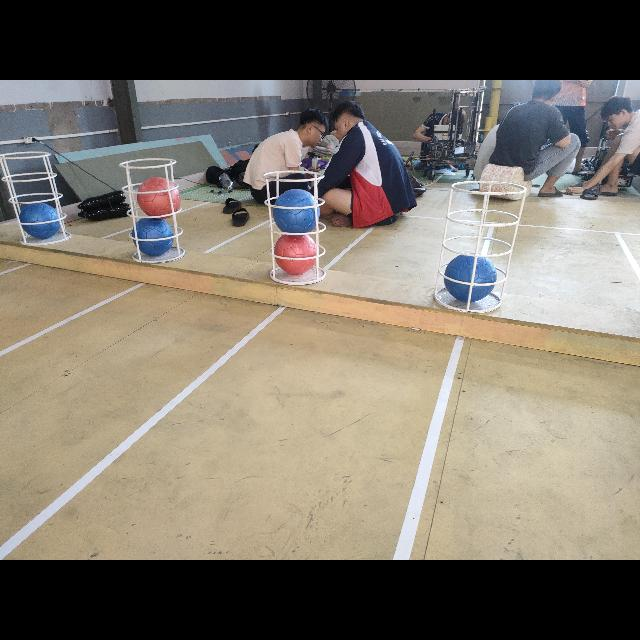B: (445, 253, 495, 303), (272, 188, 322, 238), (134, 216, 172, 256), (18, 204, 59, 238)
R: (138, 178, 182, 220), (274, 234, 318, 276)
